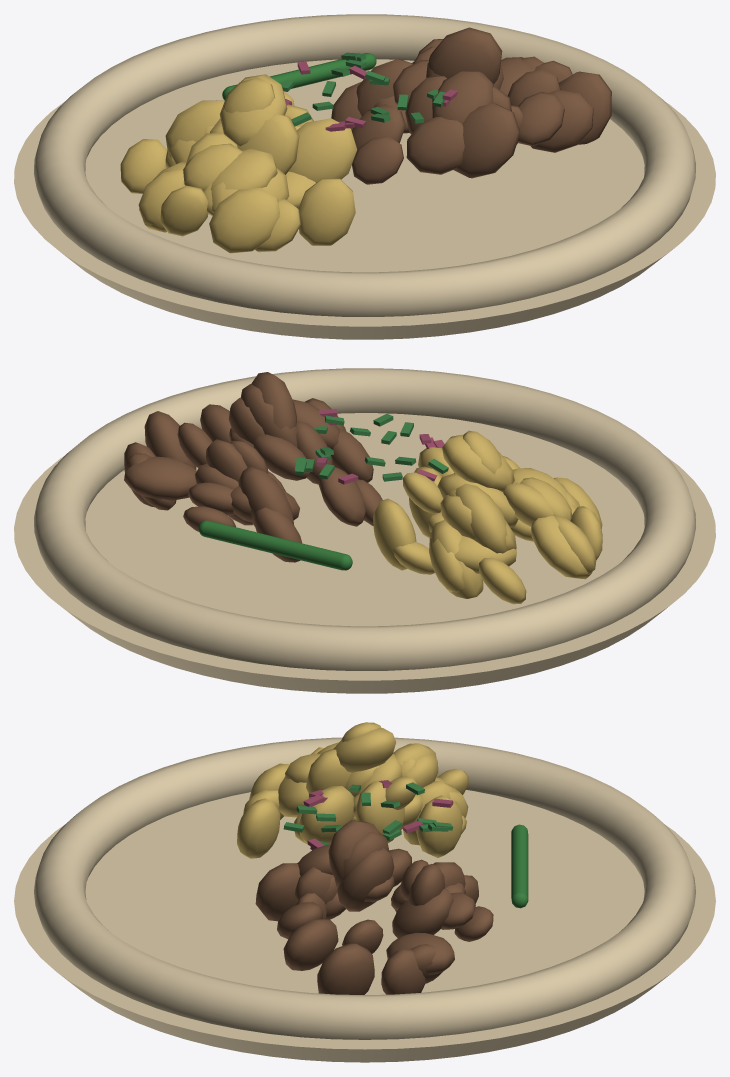
File: bhorta-assortment.glb
3 views of the same model, one above another, from view 1: azimuth 30°, elevation 25°; view 2: azimuth 150°, elevation 25°; view 3: azimuth 270°, elevation 25° (orthographic).
Visible parts, largest first — view 1: raised-rim, plate-base, potato-bhorta-piece-32, aubergine-bhorta-piece-16, potato-bhorta-piece-34, potato-bhorta-piece-1, aubergine-bhorta-piece-19, aubergine-bhorta-piece-15, aubergine-bhorta-piece-28, aubergine-bhorta-piece-17, potato-bhorta-piece-9, potato-bhorta-piece-23 (+22 smaller); view 2: plate-base, raised-rim, whole-green-chilli, aubergine-bhorta-piece-24, potato-bhorta-piece-16, potato-bhorta-piece-17, potato-bhorta-piece-18, potato-bhorta-piece-27, aubergine-bhorta-piece-8, aubergine-bhorta-piece-29, aubergine-bhorta-piece-30, aubergine-bhorta-piece-20 (+32 smaller); view 3: plate-base, raised-rim, aubergine-bhorta-piece-30, aubergine-bhorta-piece-4, aubergine-bhorta-piece-33, potato-bhorta-piece-34, potato-bhorta-piece-17, aubergine-bhorta-piece-16, aubergine-bhorta-piece-22, potato-bhorta-piece-1, potato-bhorta-piece-27, aubergine-bhorta-piece-27 (+22 smaller).
Part boxes in pixels (box(x1,y1,x2,y2)): raised-rim: box(34, 14, 695, 316); plate-base: box(14, 59, 715, 339); potato-bhorta-piece-32: box(209, 187, 279, 253); aubergine-bhorta-piece-16: box(453, 103, 520, 178); potato-bhorta-piece-34: box(298, 178, 355, 245); potato-bhorta-piece-1: box(288, 118, 357, 182); aubergine-bhorta-piece-19: box(428, 27, 502, 83); aubergine-bhorta-piece-15: box(406, 117, 464, 174); aubergine-bhorta-piece-28: box(432, 71, 493, 123); aubergine-bhorta-piece-17: box(517, 91, 564, 146); potato-bhorta-piece-9: box(237, 114, 299, 174); potato-bhorta-piece-23: box(160, 185, 208, 236); plate-base: box(14, 413, 715, 693); raised-rim: box(34, 368, 695, 670); whole-green-chilli: box(198, 520, 352, 570); aubergine-bhorta-piece-24: box(124, 456, 196, 500); potato-bhorta-piece-16: box(455, 483, 507, 553); potato-bhorta-piece-17: box(442, 434, 514, 491); potato-bhorta-piece-18: box(531, 516, 592, 579); potato-bhorta-piece-27: box(373, 498, 416, 570); aubergine-bhorta-piece-8: box(318, 467, 365, 526); aubergine-bhorta-piece-29: box(238, 466, 293, 526); aubergine-bhorta-piece-30: box(144, 411, 196, 470); aubergine-bhorta-piece-20: box(253, 434, 309, 480); plate-base: box(14, 790, 715, 1062); raised-rim: box(34, 737, 695, 1039); aubergine-bhorta-piece-30: box(317, 943, 374, 994); aubergine-bhorta-piece-4: box(283, 918, 338, 970); aubergine-bhorta-piece-33: box(337, 848, 394, 911); potato-bhorta-piece-34: box(237, 798, 280, 858); potato-bhorta-piece-17: box(333, 728, 396, 772); aubergine-bhorta-piece-16: box(255, 863, 300, 921); aubergine-bhorta-piece-22: box(392, 888, 453, 937); potato-bhorta-piece-1: box(299, 786, 354, 844); potato-bhorta-piece-27: box(416, 795, 462, 857); aubergine-bhorta-piece-27: box(381, 949, 425, 994).
Bounding box in the file's own units: 2.04 × 0.491 × 2.04.
